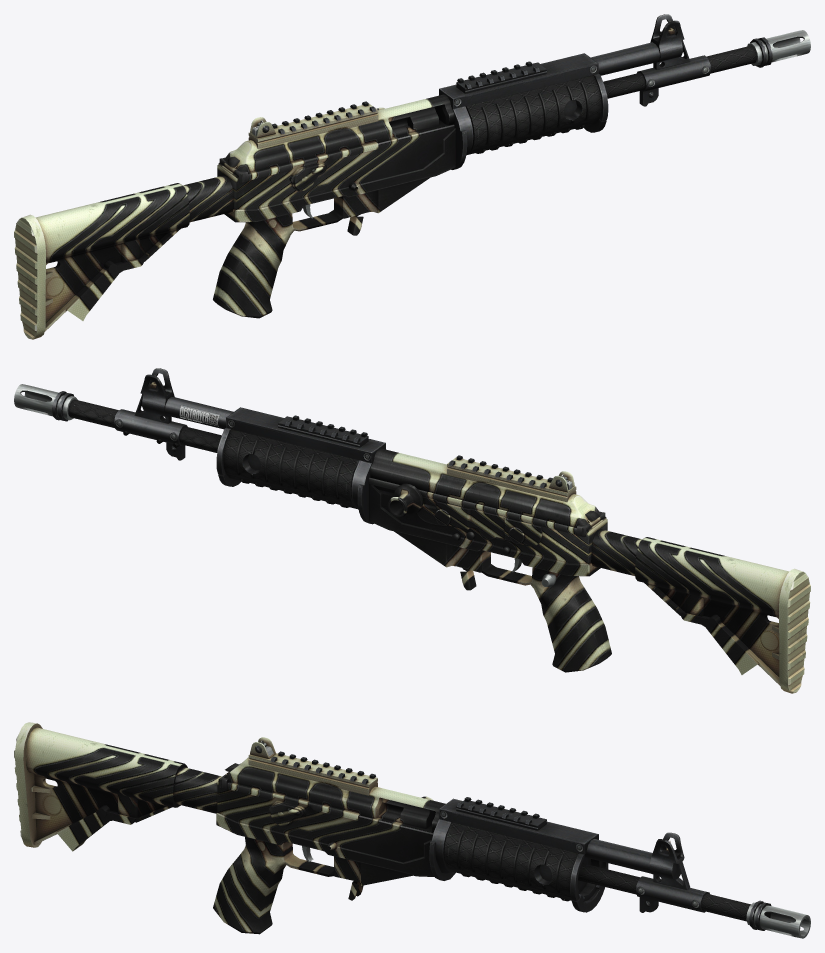
Rendered from w_assaultrifle_destroyer.glb.
The picture shows the model from 3 angles, top to bottom: view 1: azimuth 30°, elevation 25°; view 2: azimuth 150°, elevation 25°; view 3: azimuth 330°, elevation 25°; orthographic projection.
Parts seen in each view (by area): view 1: Gun_Root; view 2: Gun_Root; view 3: Gun_Root.
Boxes of the visible parts, x1,y1,x2,y2 form: Gun_Root: (14,14,810,339); Gun_Root: (14,368,810,693); Gun_Root: (14,722,810,938).
Bounding box in the file's own units: 0.8573 × 0.2015 × 0.0789.
1 material, 1 textured.
